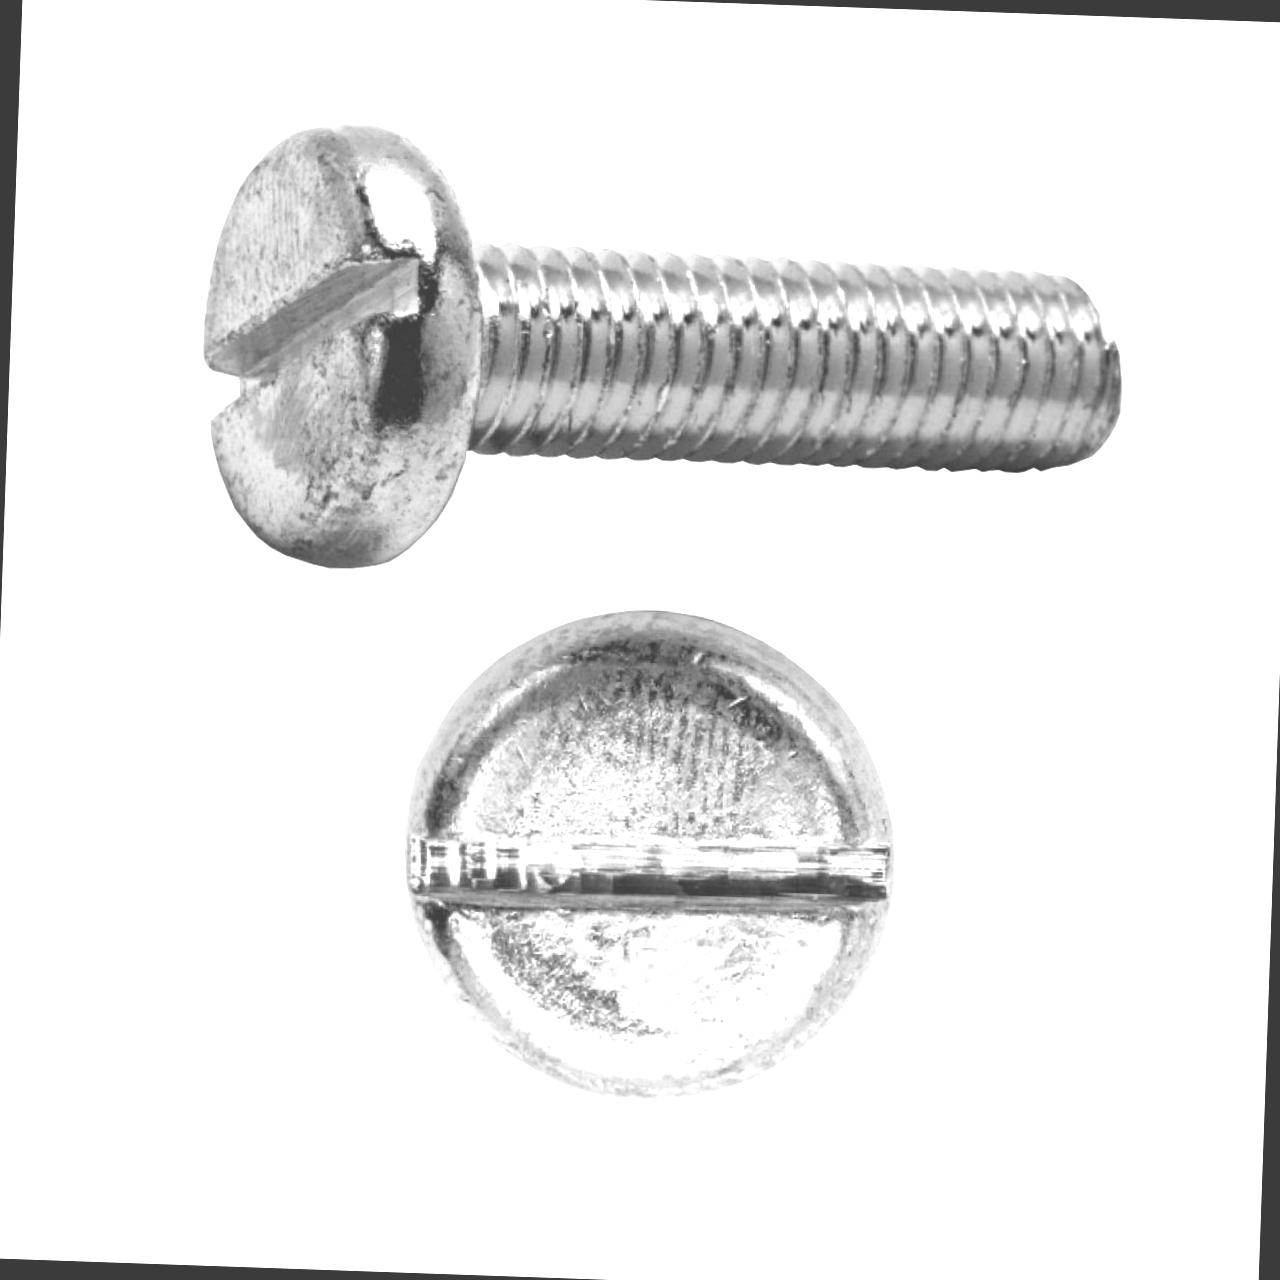slotted: (392, 610, 906, 1115), (163, 109, 497, 571)
